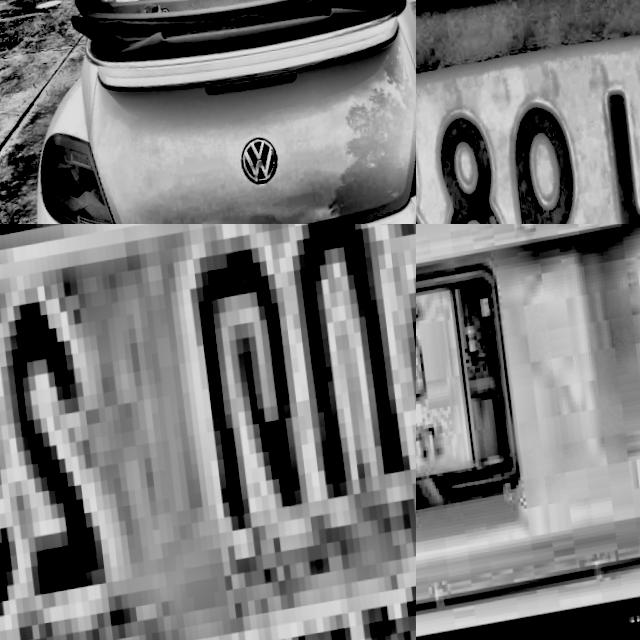license-plate: (0, 224, 416, 640), (416, 0, 640, 224), (416, 268, 522, 559)
